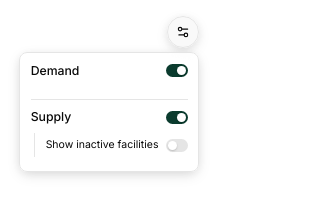
Test: MapLayersPanel › shows a dot on the button only while a layer differs from the default
Click the switch named "App sessions" at (176, 70), box [166, 64, 188, 77]
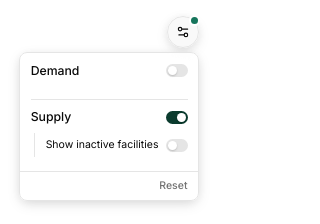
Click the switch named "App sessions" at (176, 70), box [166, 64, 188, 77]
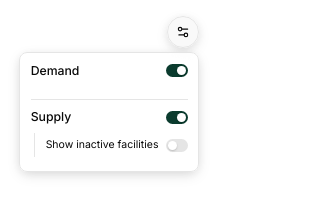
Result: the element with test id "layers-indicator" is gone
Click the switch named "Facilities" at (176, 117), box [166, 110, 188, 124]
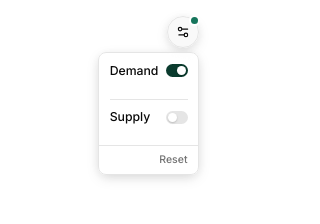
Click the switch named "Facilities" at (176, 117), box [166, 110, 188, 124]
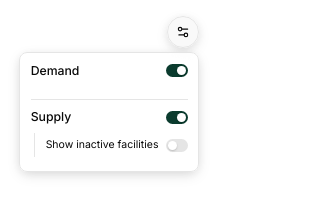
Result: the element with test id "layers-indicator" is gone
Click the switch named "Show inactive facilities" at (176, 145), box [166, 138, 188, 152]
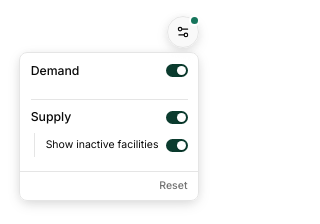
Click the switch named "Show inactive facilities" at (176, 145), box [166, 138, 188, 152]
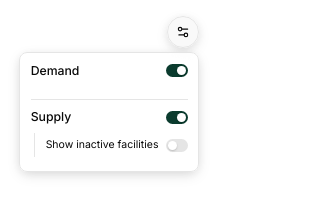
Result: the element with test id "layers-indicator" is gone
